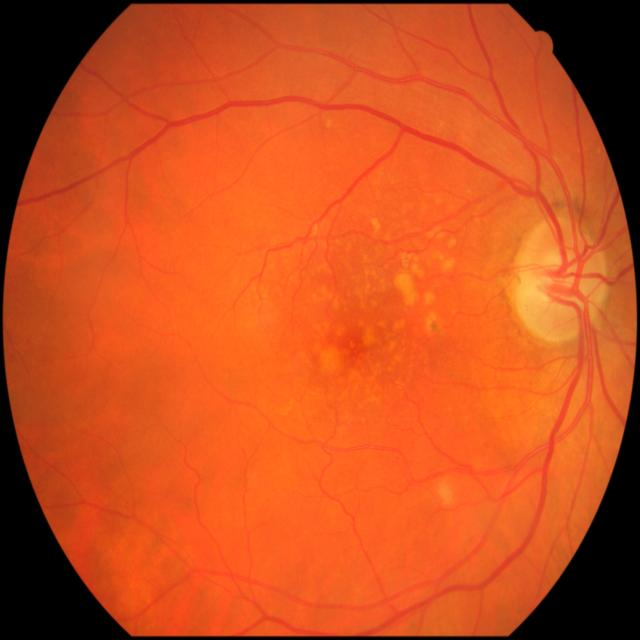OC: (536, 251, 584, 307)
OD: (517, 221, 611, 344)
